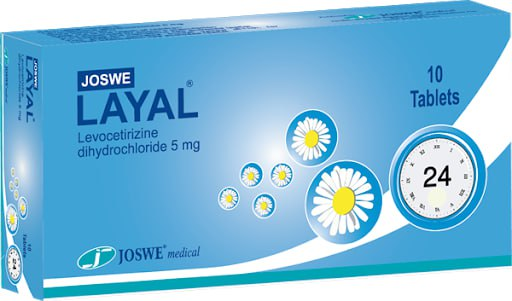Medicine: (2, 8, 512, 301)
